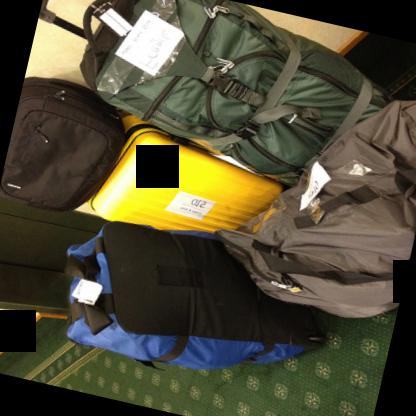backpack: (62, 220, 324, 371)
handbag: (0, 75, 125, 215)
suitcase: (39, 0, 388, 186), (66, 219, 328, 370), (88, 111, 287, 233)
